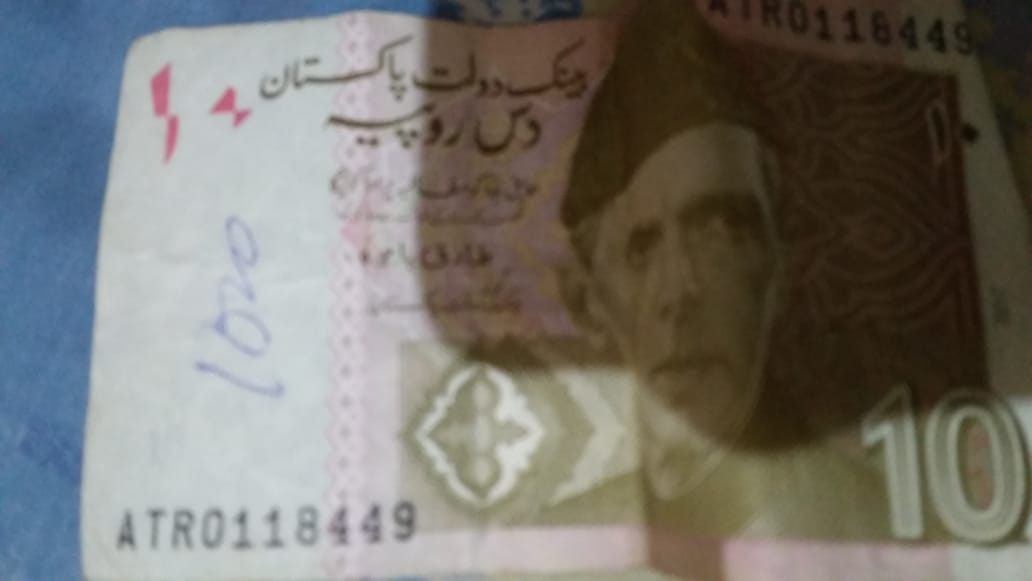10 rupee: (93, 9, 1032, 578)
